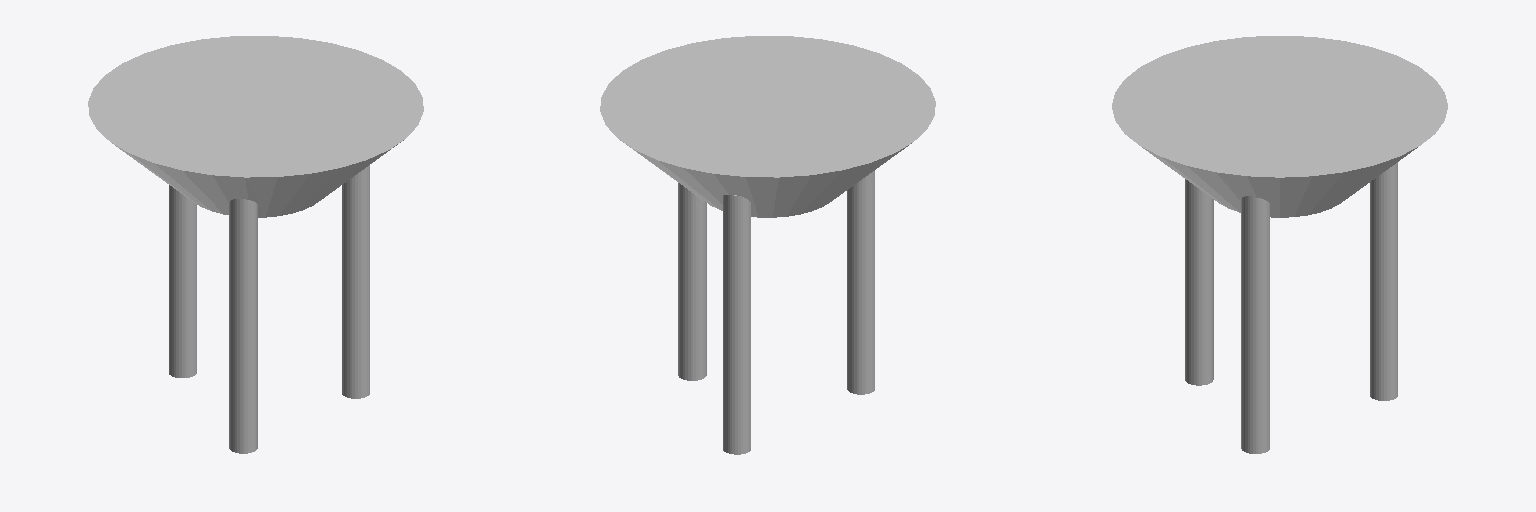
Rendered from turret_tripod.obj.
The picture shows the model from 3 angles: view 1: azimuth 30°, elevation 25°; view 2: azimuth 150°, elevation 25°; view 3: azimuth 270°, elevation 25°; orthographic projection.
Visible parts, largest first — view 1: Cylinder, Cylinder.002, Cylinder.001, Cylinder.003; view 2: Cylinder, Cylinder.003, Cylinder.002, Cylinder.001; view 3: Cylinder, Cylinder.001, Cylinder.003, Cylinder.002.
Part boxes in pixels (left/top/right/bottom): Cylinder: left=88, top=36, right=423, bottom=217; Cylinder.002: left=229, top=199, right=257, bottom=453; Cylinder.001: left=342, top=165, right=369, bottom=398; Cylinder.003: left=169, top=185, right=196, bottom=377; Cylinder: left=600, top=36, right=935, bottom=217; Cylinder.003: left=723, top=195, right=750, bottom=454; Cylinder.002: left=847, top=171, right=874, bottom=394; Cylinder.001: left=678, top=183, right=706, bottom=380; Cylinder: left=1112, top=36, right=1447, bottom=217; Cylinder.001: left=1241, top=196, right=1269, bottom=453; Cylinder.003: left=1370, top=162, right=1397, bottom=400; Cylinder.002: left=1185, top=179, right=1213, bottom=385.
Bounding box in the file's own units: 0.0965 × 0.0946 × 0.0965.